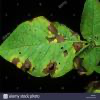Potato leaf early blight: (1, 14, 86, 82), (75, 45, 99, 75)
